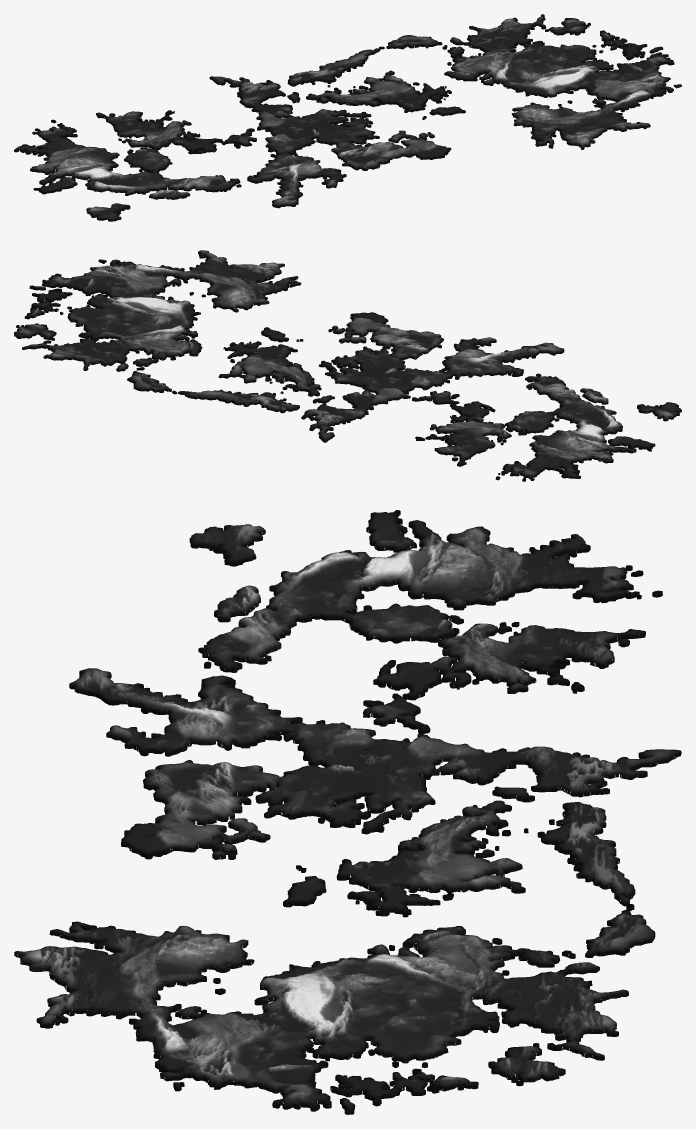
Rendered from world-map_8_LOW-transformed.glb.
The picture shows the model from 3 angles, top to bottom: view 1: azimuth 30°, elevation 25°; view 2: azimuth 150°, elevation 25°; view 3: azimuth 270°, elevation 25°; orthographic projection. The views are drawn at different scales.
Parts seen in each view (by area): view 1: continents; view 2: continents; view 3: continents.
Boxes of the visible parts, x1=… form: continents: x1=14, y1=14, x2=681, y2=221; continents: x1=14, y1=250, x2=681, y2=481; continents: x1=14, y1=510, x2=681, y2=1114.
Size of the model in its own units: 1.32 by 0.00925 by 0.6179.
Materials: 1 (1 with a texture image).
